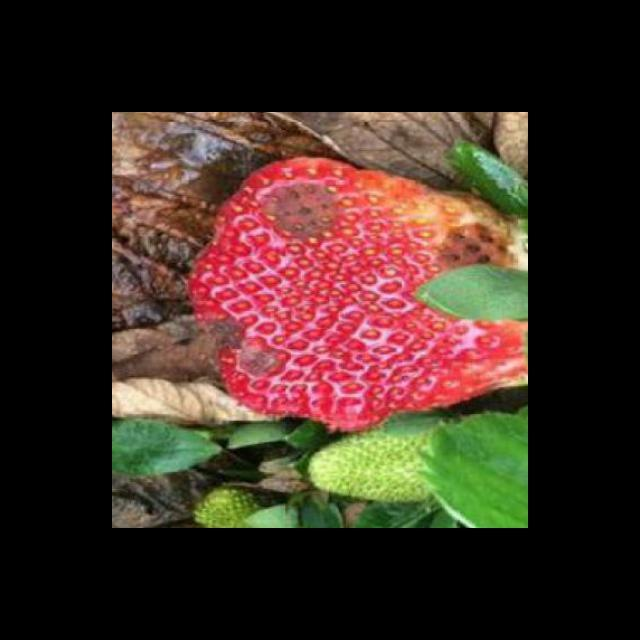Anthracnose Fruit Rot: (422, 214, 519, 276), (255, 179, 345, 242), (204, 315, 281, 379)
